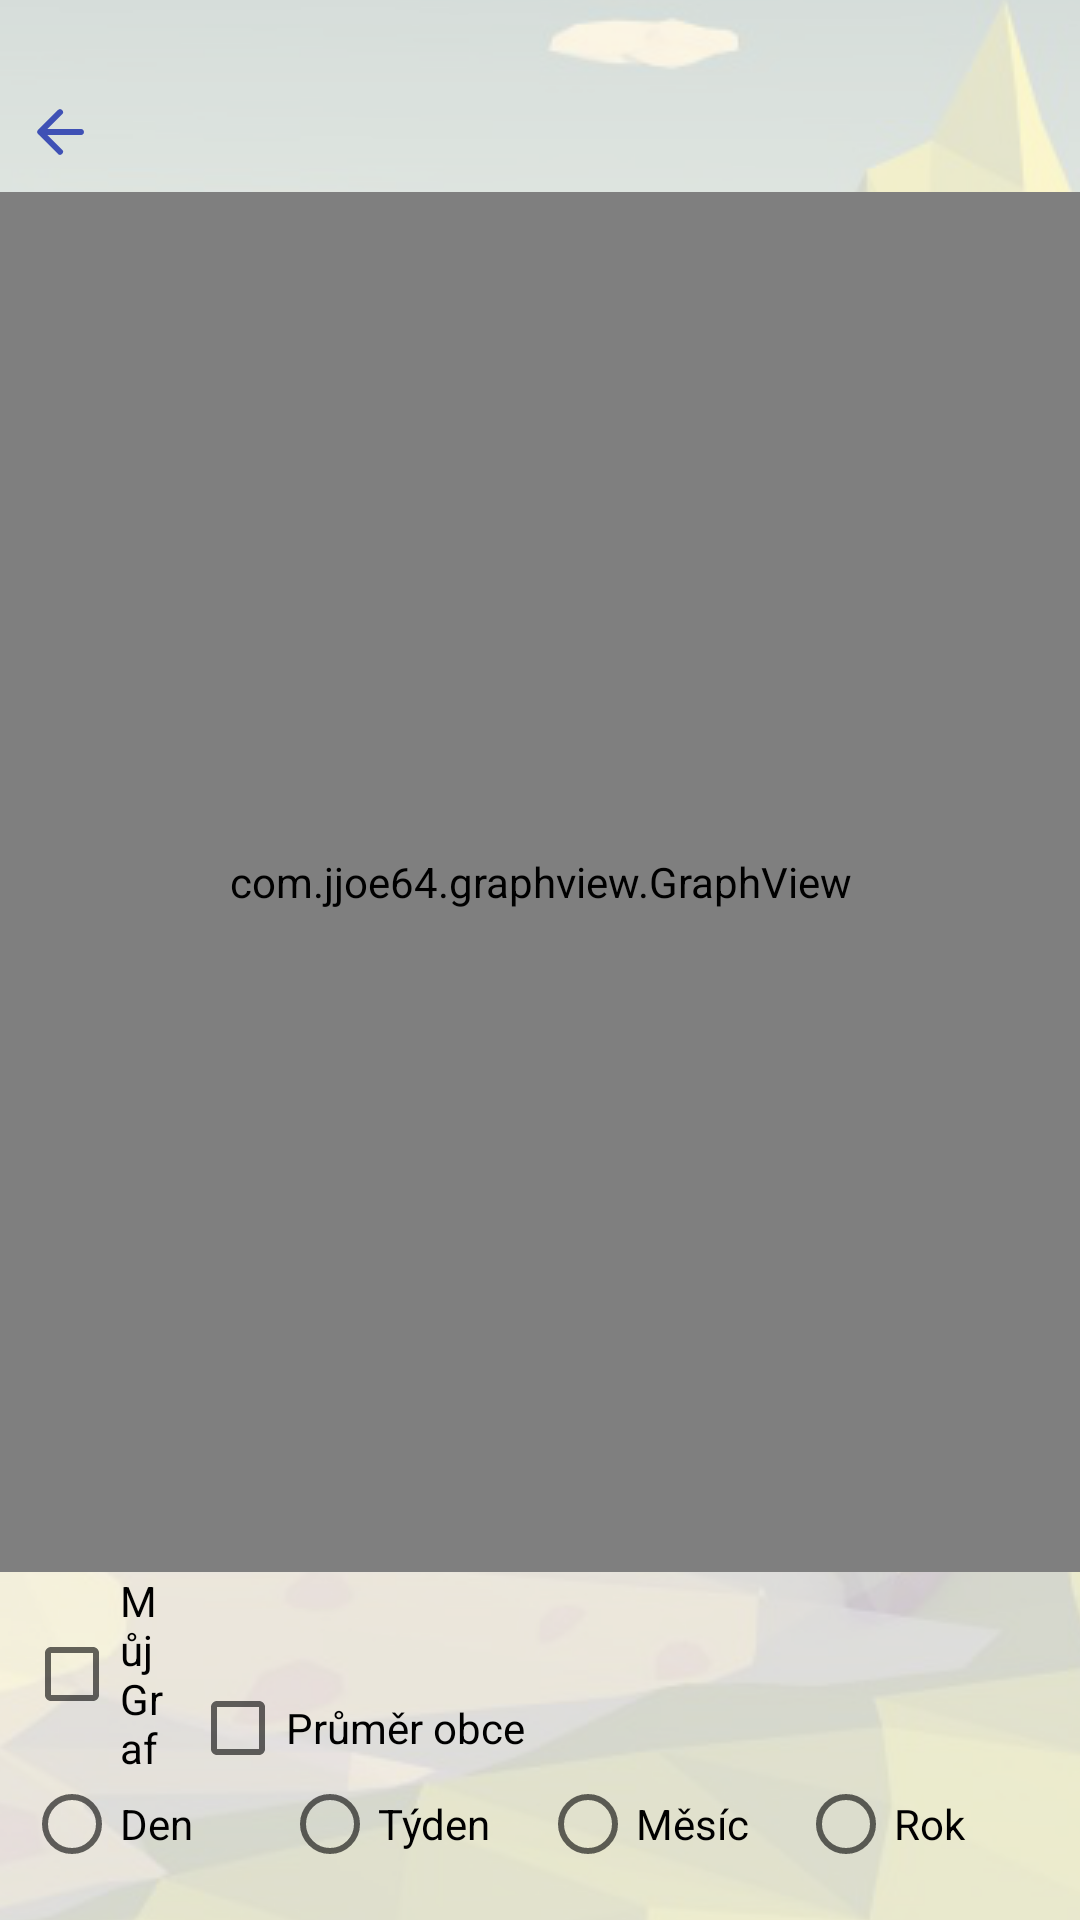

Icons on this 1080px×1920px Android screen, each with the point to tap as [x,y]:
back arrow: [60,132]
